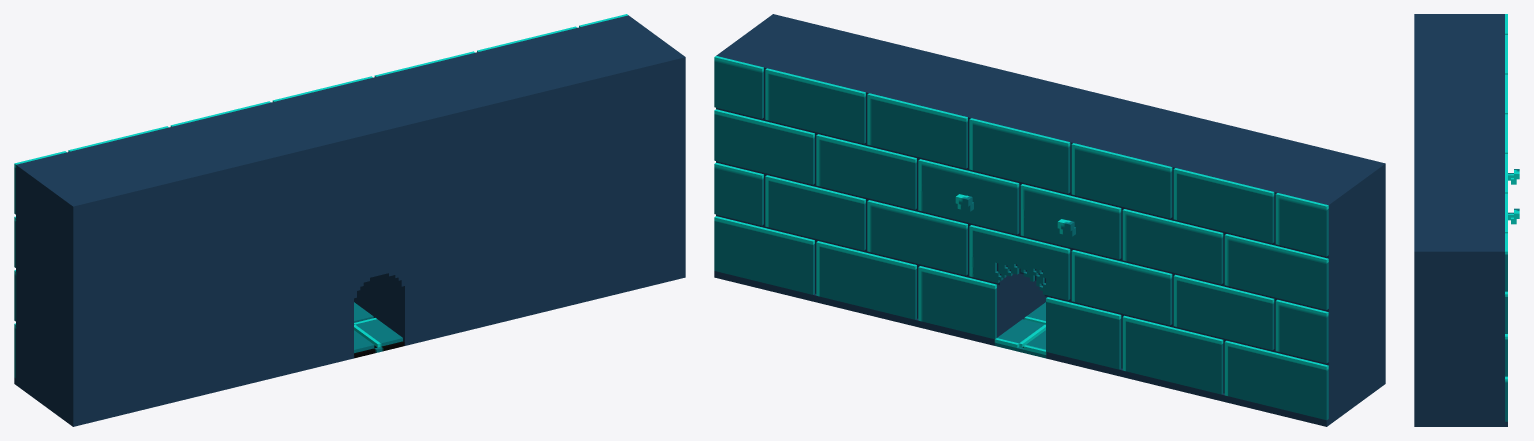
Rendered from SouthWallBombed.glb.
The picture shows the model from 3 angles, left to right: view 1: azimuth 30°, elevation 25°; view 2: azimuth 150°, elevation 25°; view 3: azimuth 270°, elevation 25°; orthographic projection. The views are drawn at different scales.
Visible parts, largest first — view 1: SouthWallBombed; view 2: SouthWallBombed; view 3: SouthWallBombed.
Part boxes in pixels (x1,y1,x2,y2): SouthWallBombed: [14, 14, 685, 426]; SouthWallBombed: [714, 14, 1385, 426]; SouthWallBombed: [1414, 14, 1519, 426].
Size of what is drawn, in the model's own units: 19.2 by 6.6 by 3.6.
Materials: 1 (1 with a texture image).
